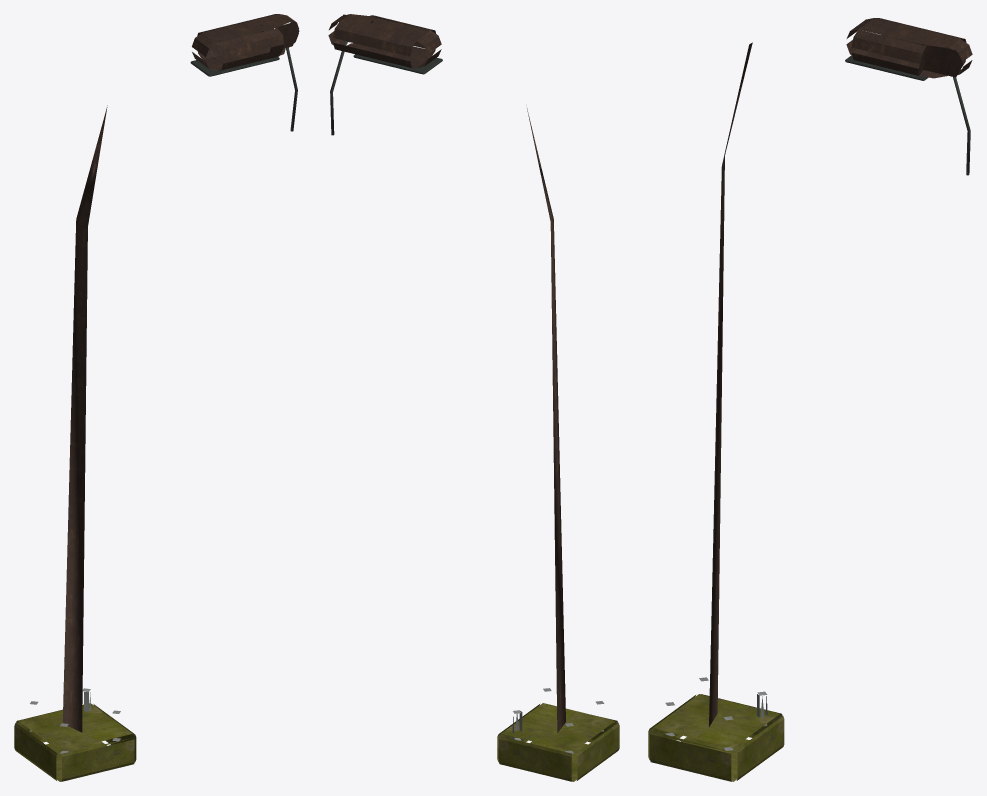
File: lod2_NOT_APPROVED.glb
3 renders of one model, left to right at view 1: azimuth 30°, elevation 25°; view 2: azimuth 150°, elevation 25°; view 3: azimuth 330°, elevation 25°, orthographic. The views are drawn at different scales.
Visible parts, largest first — view 1: f3_oxidized_iron_surface, f3_damp_concrete_surface; view 2: f3_oxidized_iron_surface, f3_damp_concrete_surface; view 3: f3_oxidized_iron_surface, f3_damp_concrete_surface.
Boxes of the visible parts, x1=… form: f3_oxidized_iron_surface: x1=62, y1=14, x2=299, y2=732; f3_damp_concrete_surface: x1=14, y1=703, x2=136, y2=781; f3_oxidized_iron_surface: x1=328, y1=14, x2=565, y2=732; f3_damp_concrete_surface: x1=497, y1=703, x2=619, y2=781; f3_oxidized_iron_surface: x1=709, y1=18, x2=972, y2=726; f3_damp_concrete_surface: x1=648, y1=694, x2=784, y2=781.
Size of the model in its own units: 1.82 by 4.54 by 0.55.
Materials: 5 (5 with a texture image).
